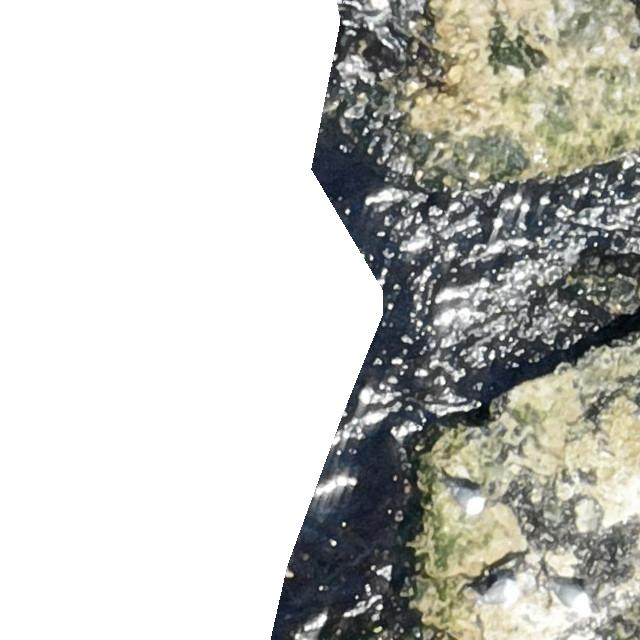umineko: (551, 574, 593, 621), (471, 578, 521, 610), (454, 488, 481, 509)
